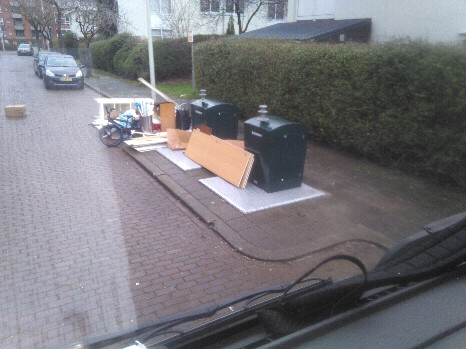Container: (259, 119, 316, 192), (193, 102, 241, 125)
Rest: (186, 132, 248, 191), (162, 120, 202, 156), (104, 91, 146, 119), (158, 99, 189, 136), (133, 95, 162, 134)
Voertuig: (45, 52, 88, 91), (100, 110, 144, 143), (27, 44, 47, 65), (18, 42, 37, 59)
